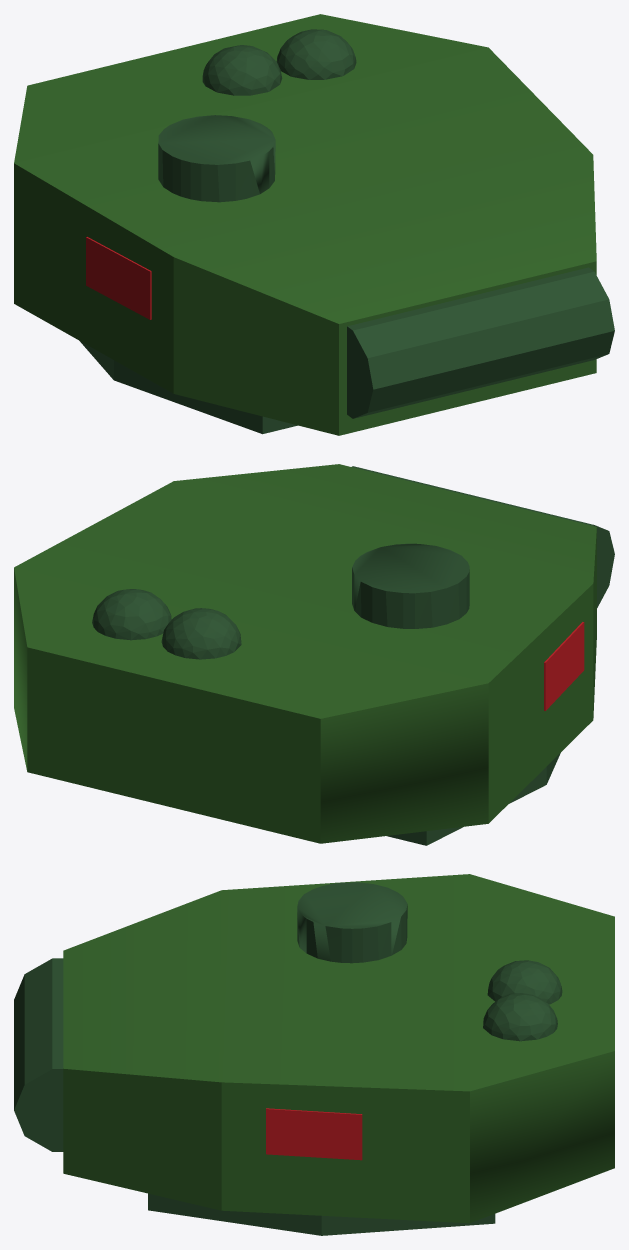
File: T-34Turret.obj
3 renders of one model, top to bottom at view 1: azimuth 30°, elevation 25°; view 2: azimuth 150°, elevation 25°; view 3: azimuth 270°, elevation 25°, orthographic. The views are drawn at different scales.
Parts seen in each view (by area): view 1: 立方体.214_立方体.001, 円柱_円柱.001, 円柱.003_円柱.001, 立方体.036_立方体.037, 球.002, 球.003, 立方体.034_立方体.035; view 2: 立方体.214_立方体.001, 円柱.003_円柱.001, 球.002, 球.003, 立方体.036_立方体.037, 円柱_円柱.001, 立方体.034_立方体.035; view 3: 立方体.214_立方体.001, 円柱_円柱.001, 円柱.003_円柱.001, 立方体.034_立方体.035, 立方体.035_立方体.036, 球.003, 球.002.
Boxes of the visible parts, x1,y1,x2,y2 form: 立方体.214_立方体.001: (14, 14, 596, 435); 円柱_円柱.001: (347, 267, 614, 418); 円柱.003_円柱.001: (158, 115, 275, 202); 立方体.036_立方体.037: (86, 237, 151, 319); 球.002: (202, 45, 282, 95); 球.003: (276, 29, 356, 79); 立方体.034_立方体.035: (80, 341, 297, 434); 立方体.214_立方体.001: (14, 464, 596, 843); 円柱.003_円柱.001: (352, 543, 469, 628); 球.002: (161, 608, 241, 659); 球.003: (92, 589, 171, 640); 立方体.036_立方体.037: (544, 622, 584, 710); 円柱_円柱.001: (352, 466, 614, 607); 立方体.034_立方体.035: (387, 753, 560, 845); 立方体.214_立方体.001: (63, 874, 614, 1223); 円柱_円柱.001: (14, 958, 63, 1151); 円柱.003_円柱.001: (297, 882, 407, 963); 立方体.034_立方体.035: (148, 1193, 495, 1235); 立方体.035_立方体.036: (266, 1108, 362, 1160); 球.003: (483, 993, 557, 1041); 球.002: (487, 960, 562, 1004).
Bounding box in the file's own units: 4.11 × 1.65 × 4.8.
5 materials, 5 textured.
